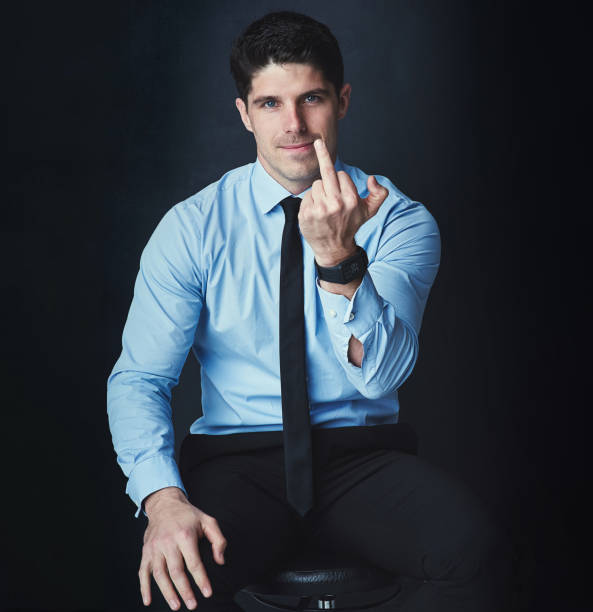insulting_gesture: (296, 138, 390, 263)
